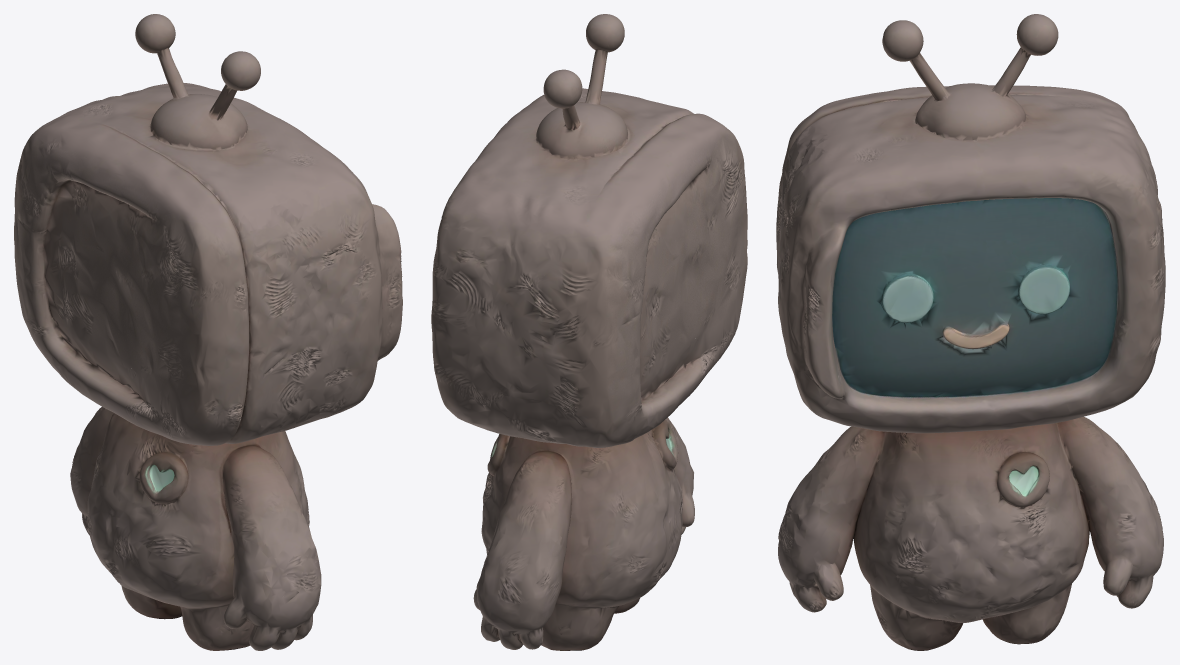
File: tvrobot.glb
3 views of the same model, side by side, from view 1: azimuth 30°, elevation 25°; view 2: azimuth 150°, elevation 25°; view 3: azimuth 270°, elevation 25° (orthographic). The views are drawn at different scales.
Visible parts, largest first — view 1: tripo_node_c9215da6-7583-4cfe-9c06-0b2b7214572d; view 2: tripo_node_c9215da6-7583-4cfe-9c06-0b2b7214572d; view 3: tripo_node_c9215da6-7583-4cfe-9c06-0b2b7214572d.
Boxes of the visible parts, left/top/right/bottom form: tripo_node_c9215da6-7583-4cfe-9c06-0b2b7214572d: left=14, top=14, right=402, bottom=650; tripo_node_c9215da6-7583-4cfe-9c06-0b2b7214572d: left=431, top=14, right=747, bottom=650; tripo_node_c9215da6-7583-4cfe-9c06-0b2b7214572d: left=776, top=14, right=1165, bottom=650.
Bounding box in the file's own units: 0.4175 × 0.9794 × 0.557.
1 material, 1 textured.
